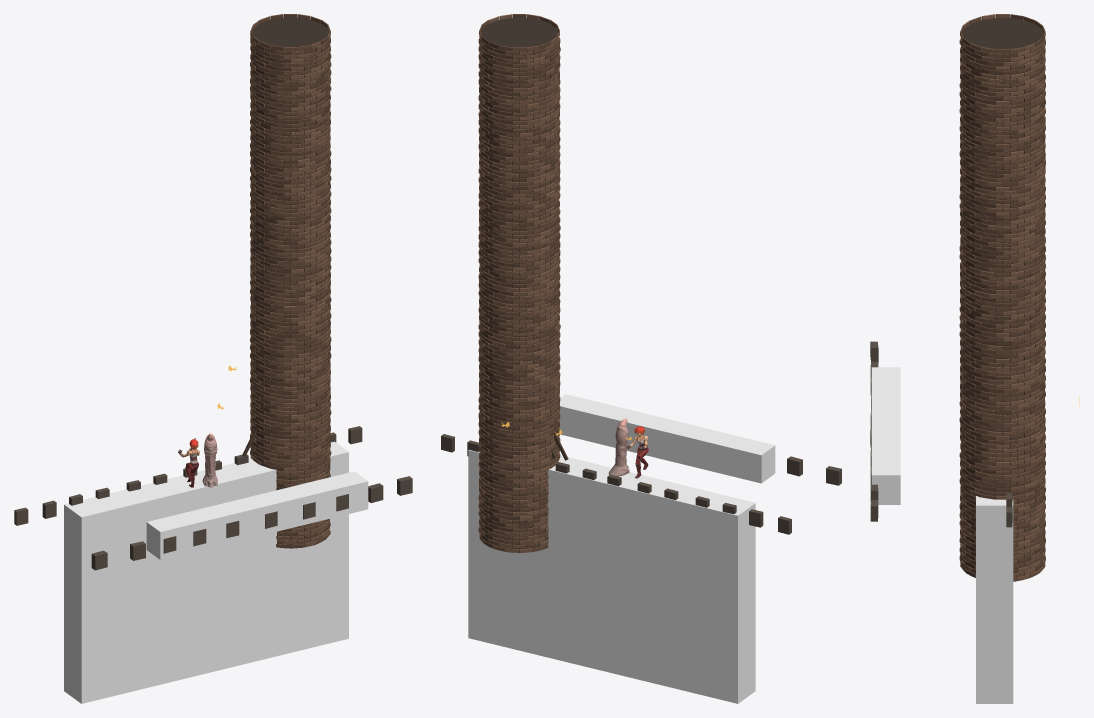
Rendered from wall_scene.glb.
The picture shows the model from 3 angles, left to right: view 1: azimuth 30°, elevation 25°; view 2: azimuth 150°, elevation 25°; view 3: azimuth 270°, elevation 25°; orthographic projection. The views are drawn at different scales.
Parts seen in each view (by area): view 1: Wall body, Tower masonry blocks, Brick tower, Near parapet ledge, dragon_v3 mesh; view 2: Wall body, Tower masonry blocks, Brick tower, Near parapet ledge, dragon_v3 mesh; view 3: Tower masonry blocks, Brick tower, Wall body, Near parapet ledge.
Boxes of the visible parts, x1=… form: Wall body: x1=64, y1=441, x2=348, y2=703; Tower masonry blocks: x1=250, y1=14, x2=331, y2=548; Brick tower: x1=251, y1=17, x2=329, y2=548; Near parapet ledge: x1=146, y1=471, x2=368, y2=559; dragon_v3 mesh: x1=202, y1=433, x2=217, y2=487; Wall body: x1=468, y1=449, x2=755, y2=703; Tower masonry blocks: x1=478, y1=14, x2=560, y2=552; Brick tower: x1=480, y1=18, x2=558, y2=552; Near parapet ledge: x1=559, y1=394, x2=775, y2=483; dragon_v3 mesh: x1=608, y1=418, x2=629, y2=476; Tower masonry blocks: x1=959, y1=14, x2=1045, y2=581; Brick tower: x1=961, y1=18, x2=1044, y2=580; Wall body: x1=976, y1=496, x2=1013, y2=703; Near parapet ledge: x1=871, y1=367, x2=900, y2=504.
Size of the model in its own units: 11.63 by 19.61 by 5.73.
13 materials, 2 textured.
